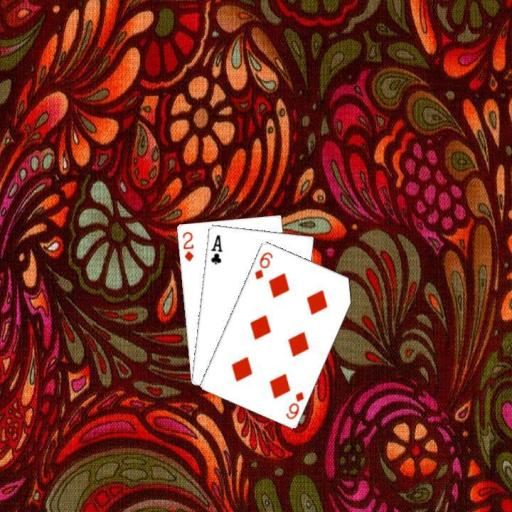2D: (179, 229, 195, 263)
6D: (251, 248, 275, 281), (282, 389, 305, 421)
AC: (208, 232, 223, 265)
